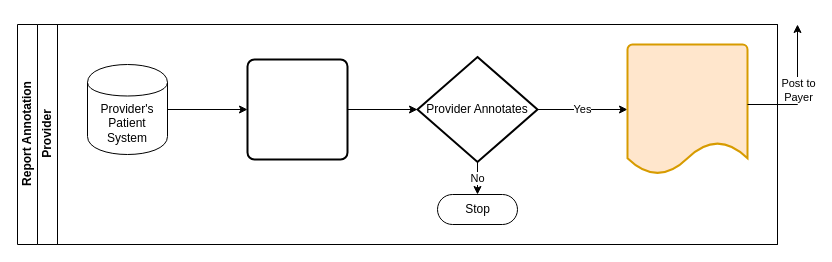
Image size: 832x262. Some labels were removed from this diagram. The shapes that lost their labels are listed below. From the top down, each one's centre as x and y in pixels, then its label:
At point (297, 109): "Display Risk Adjustment report".
At point (687, 109): "RA Coding Gap Risk Adjustment Repor t ... ... Annotation ...".
